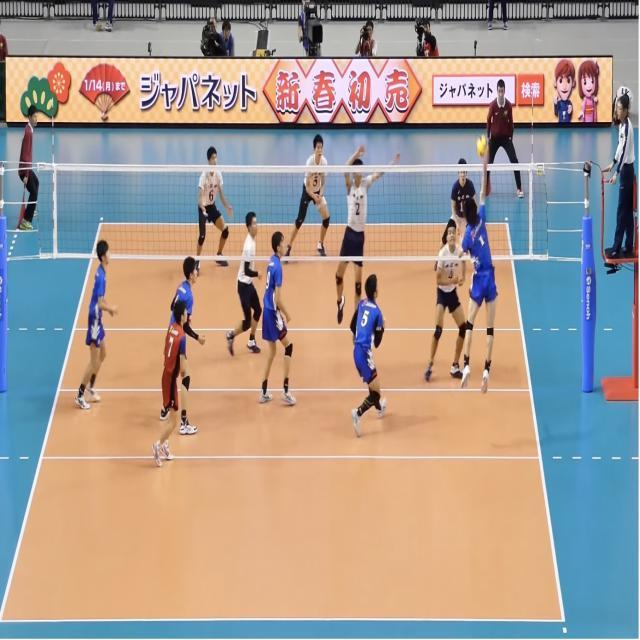spike: (449, 134, 504, 398)
